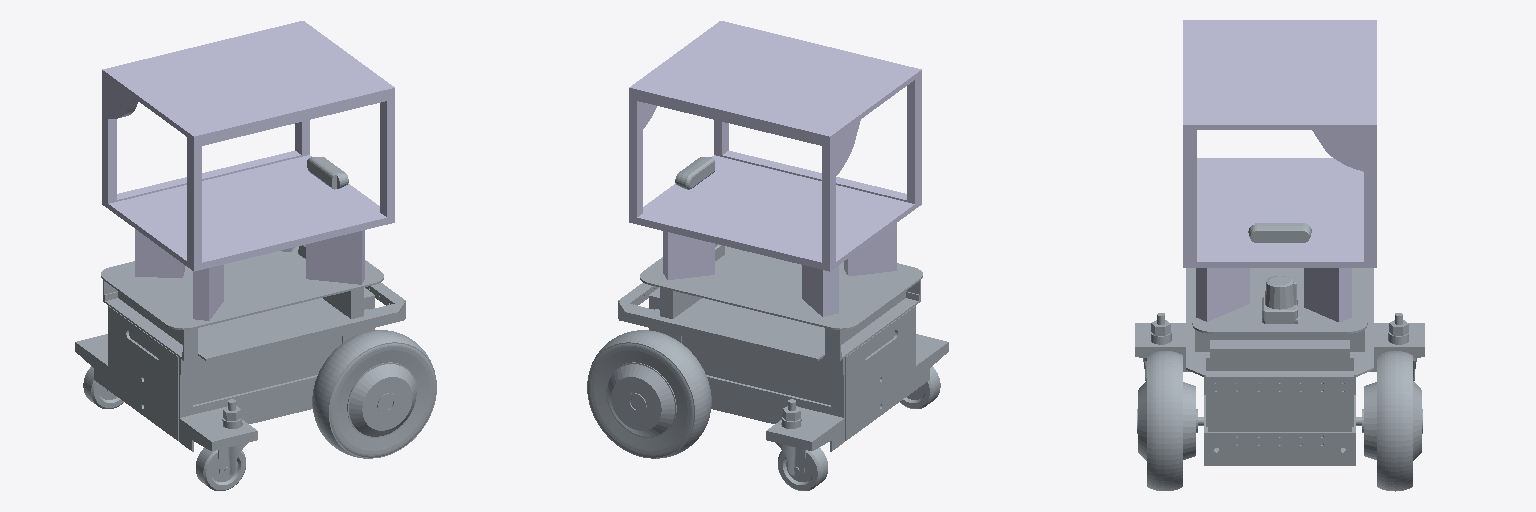
URDF robot description (krytn):
<?xml version="1.0" ?>
<robot name="krytn">
  <!--Generated by CROSS, a ROS Workbench for FreeCAD (https://github.com/galou/freecad.cross)-->
  <link name="base_footprint">
    <visual>
      <!--visual_base_footprint-->
      <origin rpy="0.0 -0.0 0.0" xyz="0.0 0.0 0.0"/>
      <geometry>
        <mesh filename="package://krytn_tray/meshes/krytn_tray_demo_00_visual_base_footprint_.dae"/>
      </geometry>
    </visual>
    <collision>
      <!--collision_base_footprint-->
      <origin rpy="0.0 -0.0 0.0" xyz="0.0 0.0 0.0"/>
      <geometry>
        <mesh filename="package://krytn_tray/meshes/krytn_tray_demo_00_collision_base_footprint_.dae"/>
      </geometry>
    </collision>
    <inertial>
      <mass value="0.0"/>
      <origin rpy="0.0 -0.0 0.0" xyz="0.0 0.0 0.0"/>
      <inertia ixx="0.0" ixy="0.0" ixz="0.0" iyy="0.0" iyz="0.0" izz="0.0"/>
    </inertial>
  </link>
  <link name="base_link">
    <visual>
      <!--visual_base_link/base_link_visual.-->
      <origin rpy="0.0 -0.0 0.0" xyz="-0.11 0.0 -0.029"/>
      <geometry>
        <mesh filename="package://krytn_tray/meshes/krytn_tray_demo_00_magni_body.dae.dae"/>
      </geometry>
    </visual>
    <collision>
      <!--collision_base_link/base_link_collision.-->
      <origin rpy="0.0 -0.0 0.0" xyz="-0.11 0.0 0.051"/>
      <geometry>
        <box size="0.398 0.268 0.16"/>
      </geometry>
    </collision>
    <collision>
      <!--collision_base_link/base_link_collision001.-->
      <origin rpy="0.0 -0.0 0.0" xyz="-0.136 0.0 0.148"/>
      <geometry>
        <box size="0.375 0.268 0.034"/>
      </geometry>
    </collision>
    <collision>
      <!--collision_base_link/base_link_collision002.-->
      <origin rpy="0.0 -0.0 0.0" xyz="-0.279 0.169 0.006"/>
      <geometry>
        <box size="0.1 0.07 0.07"/>
      </geometry>
    </collision>
    <collision>
      <!--collision_base_link/base_link_collision003.-->
      <origin rpy="0.0 -0.0 0.0" xyz="-0.279 -0.169 0.006"/>
      <geometry>
        <box size="0.1 0.07 0.07"/>
      </geometry>
    </collision>
    <inertial>
      <mass value="10.0"/>
      <origin rpy="0.0 -0.0 0.0" xyz="-0.15 0.0 0.03"/>
      <inertia ixx="0.059450809553" ixy="0.0" ixz="0.0" iyy="0.150753273032" iyz="0.0" izz="0.17270409758500002"/>
    </inertial>
  </link>
  <link name="left_wheel">
    <visual>
      <!--visual_left_wheel/left_wheel_visual.-->
      <origin rpy="0.0 -1.5707963267948966 0.0" xyz="-1.57652e-17 0.0 -0.071"/>
      <geometry>
        <mesh filename="package://krytn_tray/meshes/krytn_tray_demo_00_front_wheel.dae.dae"/>
      </geometry>
    </visual>
    <collision>
      <!--collision_left_wheel/left_wheel_collision.-->
      <origin rpy="0.0 -0.0 0.0" xyz="7.32747e-18 0.0 0.033"/>
      <geometry>
        <cylinder length="0.01" radius="0.1"/>
      </geometry>
    </collision>
    <inertial>
      <mass value="1.34"/>
      <origin rpy="-0.0 1.5707963267948966 0.0" xyz="0.0 0.0 0.0"/>
      <inertia ixx="0.003629165215000001" ixy="0.0" ixz="0.0" iyy="0.003629165215000001" iyz="0.0" izz="0.006700000000000001"/>
    </inertial>
  </link>
  <link name="right_wheel">
    <visual>
      <!--visual_right_wheel/right_wheel_visual.-->
      <origin rpy="-0.0 1.5707963267948961 0.0" xyz="1.57652e-17 0.0 0.071"/>
      <geometry>
        <mesh filename="package://krytn_tray/meshes/krytn_tray_demo_00_front_wheel.dae.dae"/>
      </geometry>
    </visual>
    <collision>
      <!--collision_right_wheel/right_wheel_collision.-->
      <origin rpy="0.0 -0.0 0.0" xyz="-7.32747e-18 0.0 -0.033"/>
      <geometry>
        <cylinder length="0.01" radius="0.1"/>
      </geometry>
    </collision>
    <inertial>
      <mass value="1.34"/>
      <origin rpy="-0.0 1.5707963267948966 0.0" xyz="0.0 0.0 0.0"/>
      <inertia ixx="0.003629165215000001" ixy="0.0" ixz="0.0" iyy="0.003629165215000001" iyz="0.0" izz="0.006700000000000001"/>
    </inertial>
  </link>
  <link name="left_caster_wheel">
    <visual>
      <!--visual_left_caster_wheel/left_caster_wheel_visual.-->
      <origin rpy="0.0 -0.0 3.141592653589793" xyz="-0.25 0.169 0.0"/>
      <geometry>
        <mesh filename="package://krytn_tray/meshes/krytn_tray_demo_00_caster_wheel.dae.dae"/>
      </geometry>
    </visual>
    <collision>
      <!--collision_left_caster_wheel/left_caster_wheel_collision.-->
      <geometry>
        <sphere radius="0.04"/>
      </geometry>
    </collision>
    <inertial>
      <mass value="0.0"/>
      <origin rpy="0.0 -0.0 0.0" xyz="0.0 0.0 0.0"/>
      <inertia ixx="0.0" ixy="0.0" ixz="0.0" iyy="0.0" iyz="0.0" izz="0.0"/>
    </inertial>
  </link>
  <link name="right_caster_wheel">
    <visual>
      <!--visual_right_caster_wheel/right_caster_wheel_visual.-->
      <origin rpy="0.0 -0.0 3.141592653589793" xyz="-0.25 -0.169 0.0"/>
      <geometry>
        <mesh filename="package://krytn_tray/meshes/krytn_tray_demo_00_caster_wheel.dae.dae"/>
      </geometry>
    </visual>
    <collision>
      <!--collision_right_caster_wheel/right_caster_wheel_collision.-->
      <geometry>
        <sphere radius="0.04"/>
      </geometry>
    </collision>
    <inertial>
      <mass value="0.0"/>
      <origin rpy="0.0 -0.0 0.0" xyz="0.0 0.0 0.0"/>
      <inertia ixx="0.0" ixy="0.0" ixz="0.0" iyy="0.0" iyz="0.0" izz="0.0"/>
    </inertial>
  </link>
  <link name="realsense_link">
    <visual>
      <!--visual_realsense_link/realsense_link_visual.-->
      <origin rpy="0.0 -0.0 1.5707963267948966" xyz="0.0 0.0 0.0"/>
      <geometry>
        <mesh filename="package://krytn_tray/meshes/krytn_tray_demo_00_realsense.dae.dae"/>
      </geometry>
    </visual>
    <collision>
      <!--collision_realsense_link/realsense_link_collision.-->
      <origin rpy="0.0 -0.0 1.5707963267948966" xyz="0.0 0.0 0.0"/>
      <geometry>
        <mesh filename="package://krytn_tray/meshes/krytn_tray_demo_00_realsense.dae.dae"/>
      </geometry>
    </collision>
    <inertial>
      <mass value="0.06"/>
      <origin rpy="0.0 -0.0 0.0" xyz="-0.15 0.0 0.03"/>
      <inertia ixx="5.04999798e-05" ixy="0.0" ixz="0.0" iyy="2.499999e-06" iyz="0.0" izz="5.19999792e-05"/>
    </inertial>
  </link>
  <link name="lidar_2d_link">
    <visual>
      <!--visual_lidar_2d_link/lidar_2d_link_visual.-->
      <origin rpy="0.0 -0.0 0.0" xyz="0.0 0.0 0.0"/>
      <geometry>
        <mesh filename="package://krytn_tray/meshes/krytn_tray_demo_00_lidar_2d_v1.dae.dae"/>
      </geometry>
    </visual>
    <collision>
      <!--collision_lidar_2d_link/lidar_2d_link_collision.-->
      <origin rpy="0.0 -0.0 0.0" xyz="0.0 0.0 0.0"/>
      <geometry>
        <box size="0.05001062 0.05001062 0.035003035"/>
      </geometry>
    </collision>
    <collision>
      <!--collision_lidar_2d_link/lidar_2d_link_collision001.-->
      <origin rpy="0.0 -0.0 0.0" xyz="0.0 0.0 0.0"/>
      <geometry>
        <cylinder length="0.035003035" radius="0.02"/>
      </geometry>
    </collision>
    <inertial>
      <mass value="0.13"/>
      <origin rpy="0.0 -0.0 0.0" xyz="-0.15 0.0 0.03"/>
      <inertia ixx="0.0027180822461000003" ixy="0.0" ixz="0.0" iyy="3.6833318600000004e-05" iyz="0.0" izz="0.0027354155725000003"/>
    </inertial>
  </link>
  <link name="krytn_tray">
    <visual>
      <!--Part/Body.-->
      <origin rpy="0.0 -0.0 0.0" xyz="0.0 0.0 0.0"/>
      <geometry>
        <mesh filename="package://krytn_tray/meshes/krytn_tray_demo_00_Krytn_Tray.dae"/>
      </geometry>
    </visual>
    <collision>
      <!--Part/Body.-->
      <origin rpy="0.0 -0.0 0.0" xyz="0.0 0.0 0.0"/>
      <geometry>
        <mesh filename="package://krytn_tray/meshes/krytn_tray_demo_00_Krytn_Tray.dae"/>
      </geometry>
    </collision>
    <inertial>
      <mass value="0.0"/>
      <origin rpy="0.0 -0.0 0.0" xyz="0.0 0.0 0.0"/>
      <inertia ixx="0.0" ixy="0.0" ixz="0.0" iyy="0.0" iyz="0.0" izz="0.0"/>
    </inertial>
  </link>
  <joint name="base_footprint_joint" type="fixed">
    <parent link="base_footprint"/>
    <child link="base_link"/>
    <origin rpy="0.0 -0.0 0.0" xyz="0.0 0.0 0.1"/>
  </joint>
  <joint name="left_wheel_joint" type="continuous">
    <parent link="base_link"/>
    <child link="left_wheel"/>
    <origin rpy="-1.5707963267948966 1.5707963267948963 0.0" xyz="0.0 0.163 0.0"/>
    <axis xyz="0 0 1"/>
  </joint>
  <joint name="right_wheel_joint" type="continuous">
    <parent link="base_link"/>
    <child link="right_wheel"/>
    <origin rpy="-1.5707963267948966 1.5707963267948963 0.0" xyz="0.0 -0.163 0.0"/>
    <axis xyz="0 0 1"/>
  </joint>
  <joint name="left_caster_wheel_joint" type="fixed">
    <parent link="base_link"/>
    <child link="left_caster_wheel"/>
    <origin rpy="0.0 -0.0 0.0" xyz="0.0 0.0 0.0"/>
  </joint>
  <joint name="right_caster_wheel_joint" type="fixed">
    <parent link="base_link"/>
    <child link="right_caster_wheel"/>
    <origin rpy="0.0 -0.0 0.0" xyz="0.0 0.0 0.0"/>
  </joint>
  <joint name="realsense_joint" type="fixed">
    <parent link="base_link"/>
    <child link="realsense_link"/>
    <origin rpy="0.0 -0.0 0.0" xyz="0.0 0.0 0.3"/>
  </joint>
  <joint name="lidar_2d_joint" type="fixed">
    <parent link="base_link"/>
    <child link="lidar_2d_link"/>
    <origin rpy="0.0 -0.0 0.0" xyz="0.0 0.0 0.15"/>
  </joint>
  <joint name="tray_joint" type="fixed">
    <parent link="base_link"/>
    <child link="krytn_tray"/>
    <origin rpy="0.0 -0.0 1.5707963267948966" xyz="-0.3 0.014 0.167"/>
  </joint>
</robot>

--- What the picture shows (computed from the rendered views, not written in the file) ---
Views: 3 orthographic renders of the robot side by side, from view 1: azimuth 30°, elevation 25°; view 2: azimuth 150°, elevation 25°; view 3: azimuth 270°, elevation 25°.
Robot: krytn — 9 links, 8 joints (2 continuous, 6 fixed); root link base_footprint; default pose: all joints at 0.
Links seen in each view (by area): view 1: krytn_tray, base_link, right_wheel, right_caster_wheel, realsense_link, left_caster_wheel; view 2: krytn_tray, base_link, left_wheel, left_caster_wheel, realsense_link, right_caster_wheel; view 3: krytn_tray, base_link, right_wheel, left_wheel, lidar_2d_link, realsense_link, left_caster_wheel, right_caster_wheel.
Link boxes in pixels (<box>): krytn_tray: <box>102,21,394,320</box>; base_link: <box>75,246,405,451</box>; right_wheel: <box>312,330,436,458</box>; right_caster_wheel: <box>196,399,247,490</box>; realsense_link: <box>307,157,348,189</box>; left_caster_wheel: <box>83,366,123,408</box>; krytn_tray: <box>629,21,921,316</box>; base_link: <box>618,246,948,451</box>; left_wheel: <box>587,330,711,458</box>; left_caster_wheel: <box>776,399,827,490</box>; realsense_link: <box>675,157,714,189</box>; right_caster_wheel: <box>900,366,940,408</box>; krytn_tray: <box>1183,20,1376,322</box>; base_link: <box>1135,268,1424,465</box>; right_wheel: <box>1137,351,1203,490</box>; left_wheel: <box>1356,351,1422,491</box>; lidar_2d_link: <box>1262,276,1299,323</box>; realsense_link: <box>1248,223,1311,242</box>; left_caster_wheel: <box>1388,313,1416,380</box>; right_caster_wheel: <box>1143,313,1171,380</box>.
Bounding box of the posed robot: 0.423 × 0.412 × 0.5883 m (x, y, z).
Meshes: 7 distinct files referenced, 8 mesh visuals loaded (6 Collada DAE); not drawn: 1 (file found but could not be loaded).
